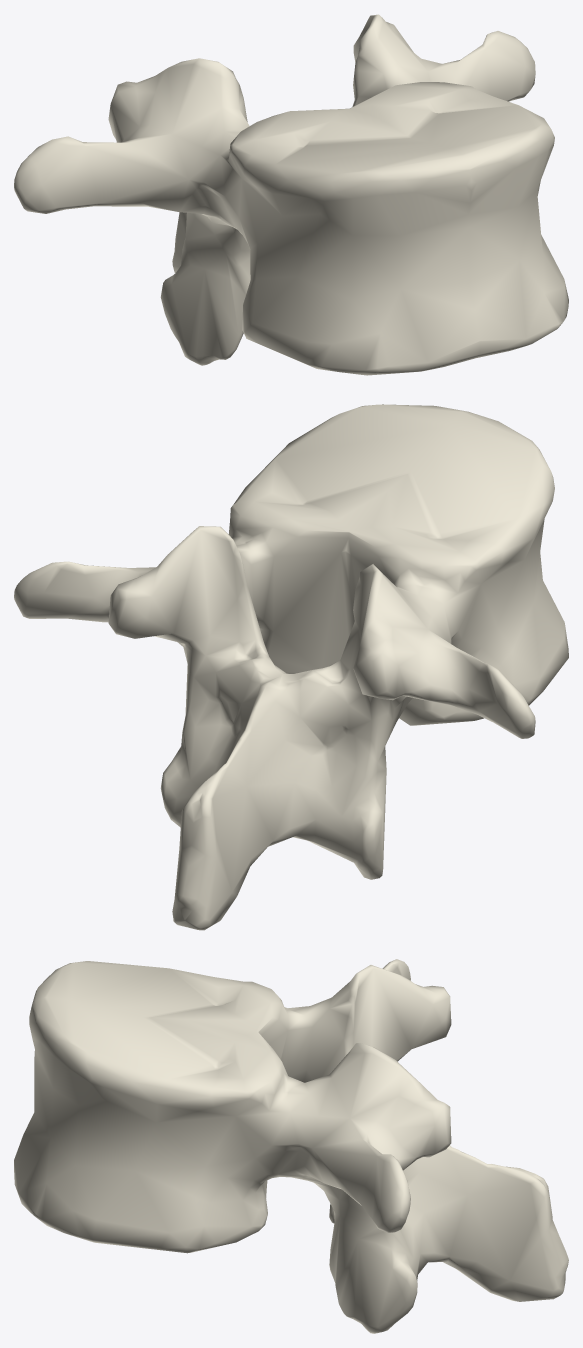
3 views of the same model, one above another, from view 1: azimuth 30°, elevation 25°; view 2: azimuth 150°, elevation 25°; view 3: azimuth 270°, elevation 25° (orthographic). The views are drawn at different scales.
Visible parts, largest first — view 1: ZA_383d4717457a611b; view 2: ZA_383d4717457a611b; view 3: ZA_383d4717457a611b.
Part boxes in pixels (x1,y1,x2,y2): ZA_383d4717457a611b: [14, 14, 568, 375]; ZA_383d4717457a611b: [14, 404, 568, 930]; ZA_383d4717457a611b: [14, 959, 568, 1333].
Size of the model in its own units: 0.0838 by 0.0497 by 0.0831.
